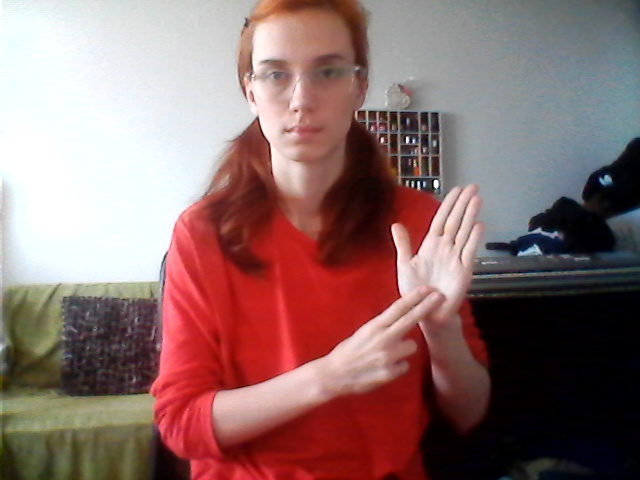n: (362, 181, 489, 389)
